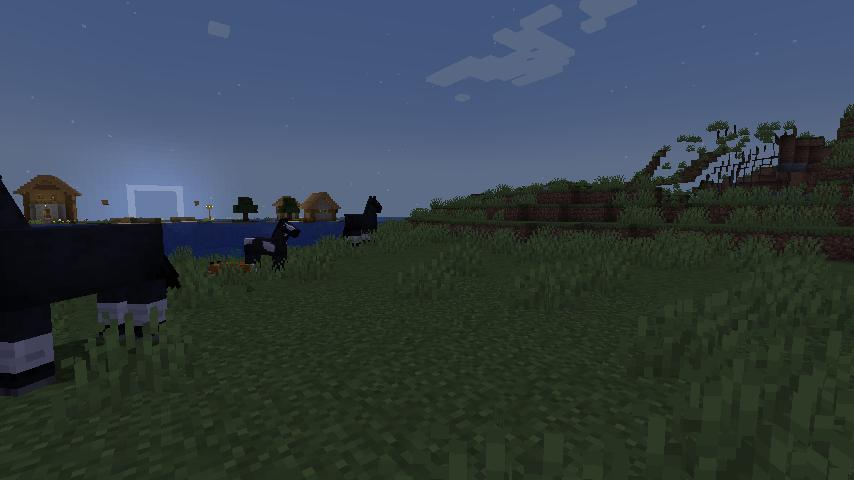fox: (203, 258, 260, 289)
